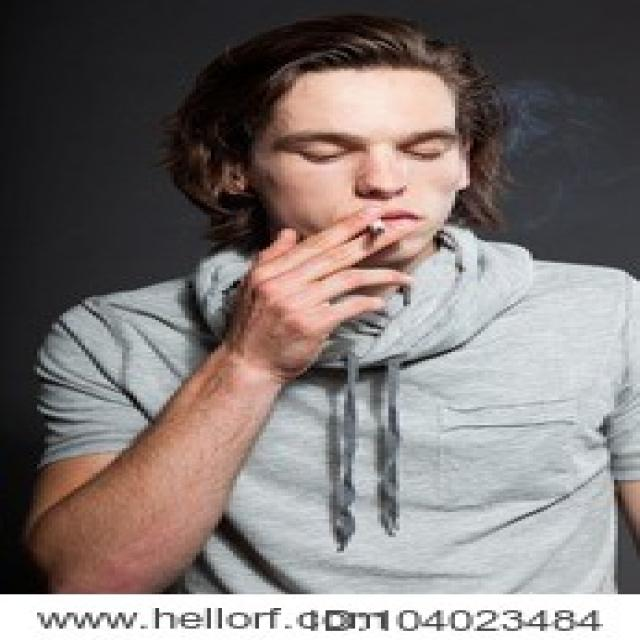cigarette: (367, 222, 392, 233)
